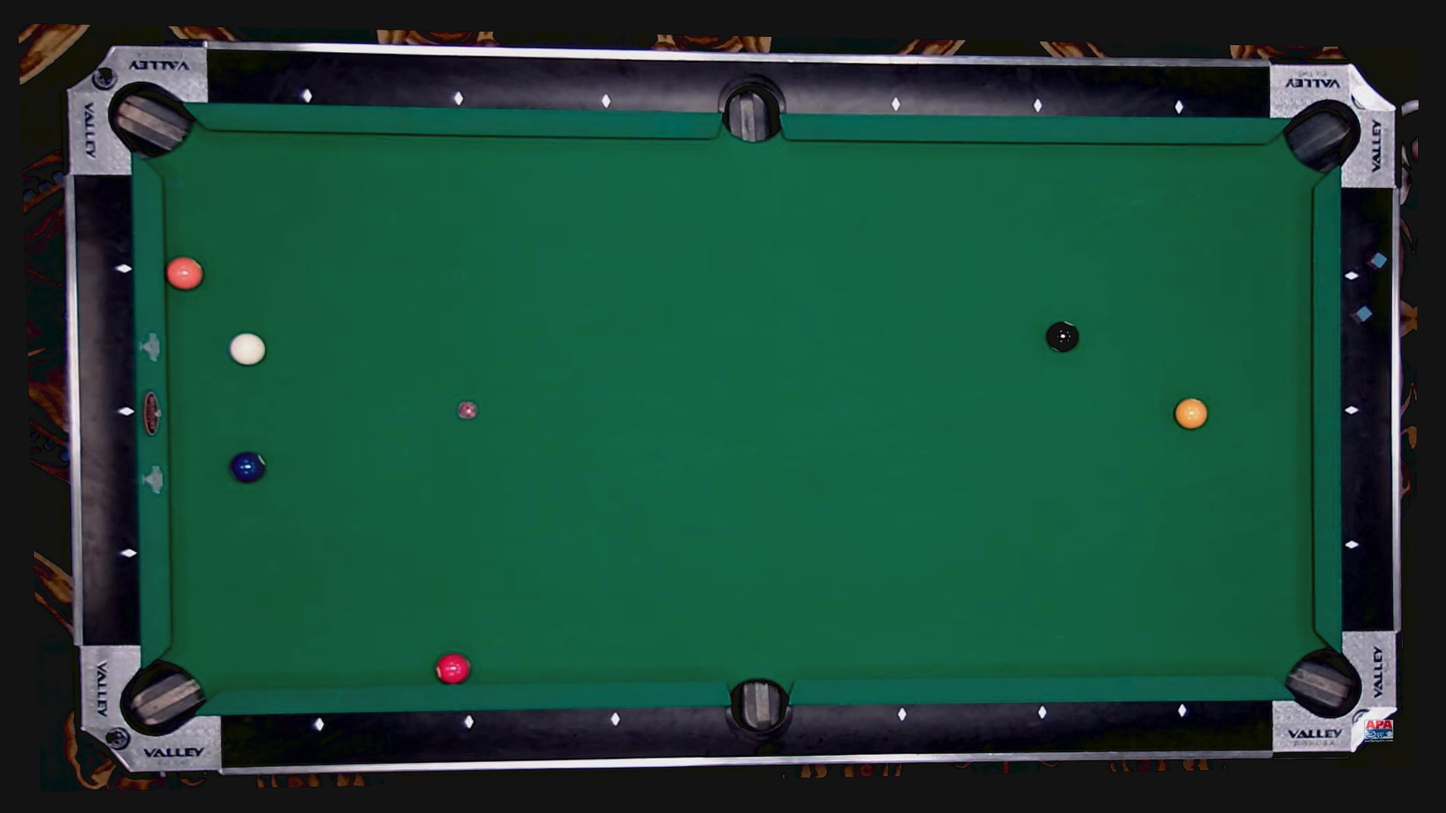Black: (1045, 319, 1082, 354)
Cue: (231, 332, 266, 367)
Solid: (121, 406, 132, 417), (600, 96, 611, 107), (1173, 102, 1184, 113), (1346, 406, 1357, 417), (122, 549, 133, 559), (304, 90, 314, 101), (453, 93, 464, 103), (1033, 101, 1044, 111), (1347, 272, 1357, 283), (1177, 706, 1188, 716), (896, 709, 907, 719), (609, 714, 619, 725), (462, 717, 473, 727), (314, 719, 324, 730), (118, 262, 128, 272), (892, 99, 902, 109), (1346, 539, 1356, 549), (1037, 708, 1047, 718)
Striped: (1173, 396, 1209, 431), (436, 651, 472, 685), (167, 256, 203, 290), (231, 450, 266, 483)
